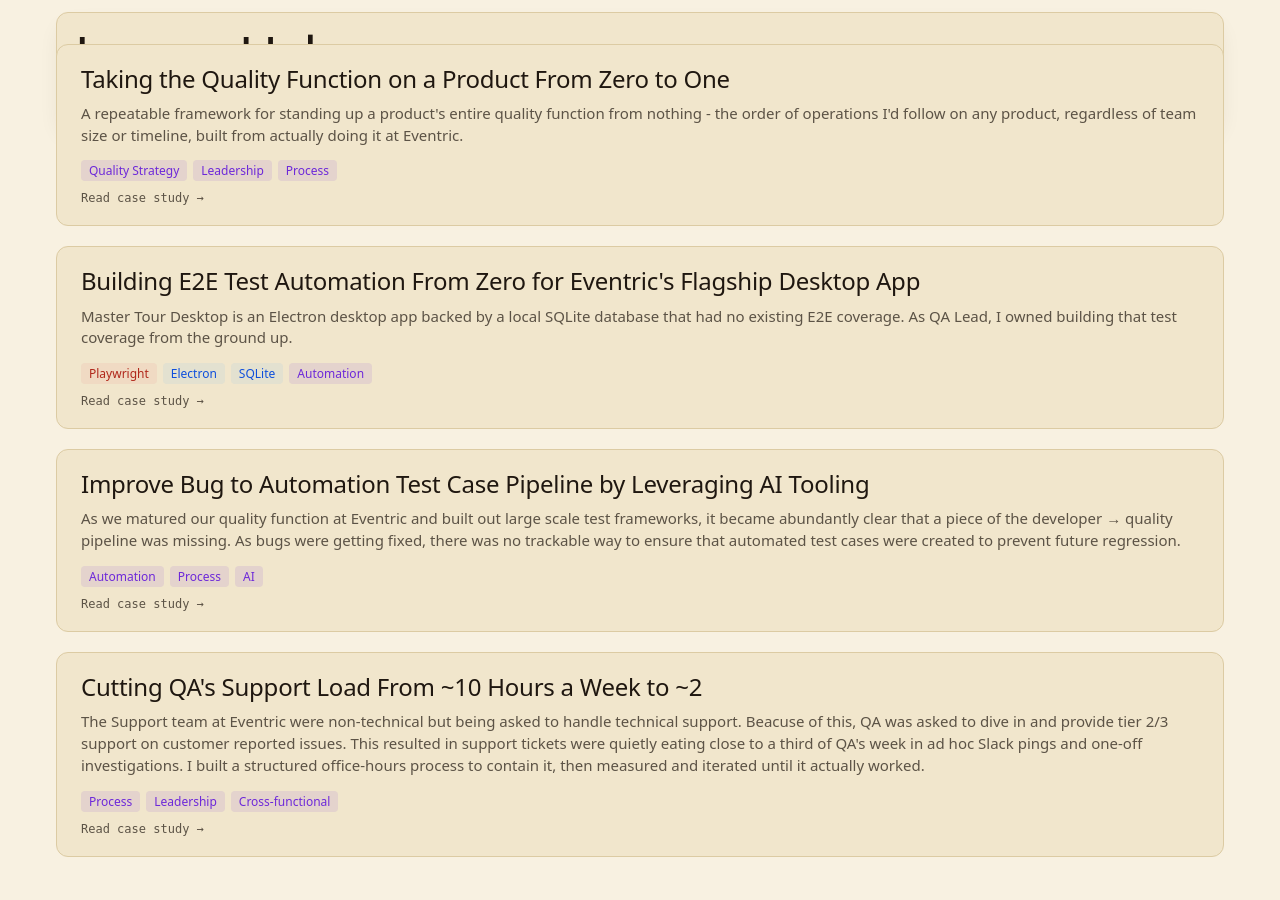
CaseStudies › opens a detail modal with the full report when a card is clicked
Step 1. Click the 1st button → (640, 135), box x1=56 y1=44 x2=1224 y2=226
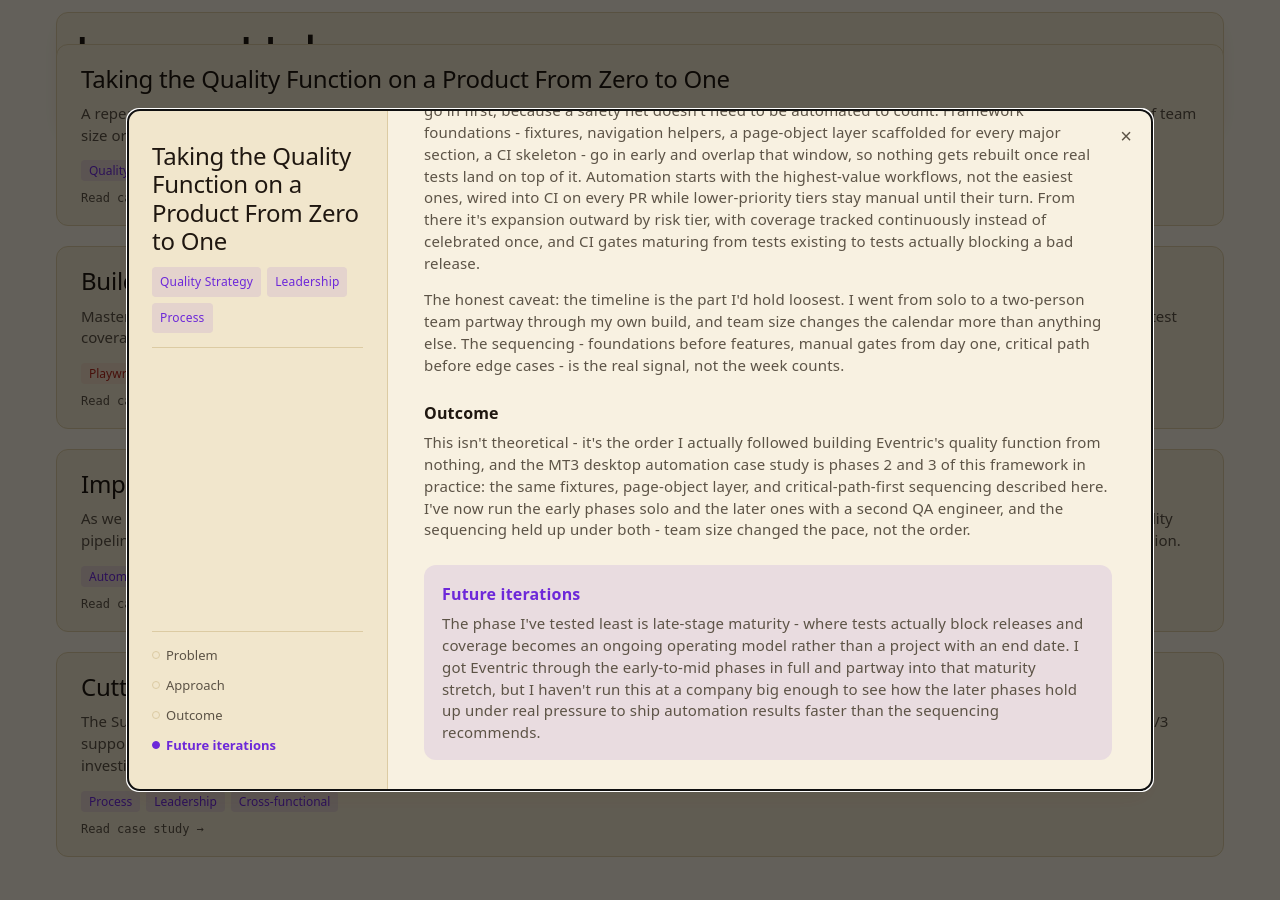
Expected: the dialog is shown
Expected: the element with test id "case-study-section-outcome" shows "This isn't theoretical - it's the order I actually followed building Eventric's quality function from nothing, and the MT3 desktop automation case study is phas", x1=424 y1=432 x2=1108 y2=539
Expected: the element with test id "case-study-section-futureIterations" shows "The phase I've tested least is late-stage maturity - where tests actually block releases and coverage becomes an ongoing operating model rather than a project w", x1=442 y1=613 x2=1084 y2=742
